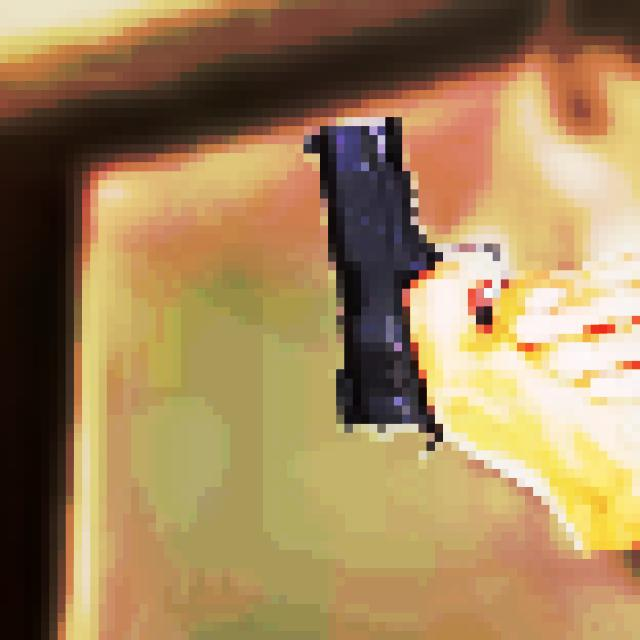arms: (226, 50, 562, 529)
